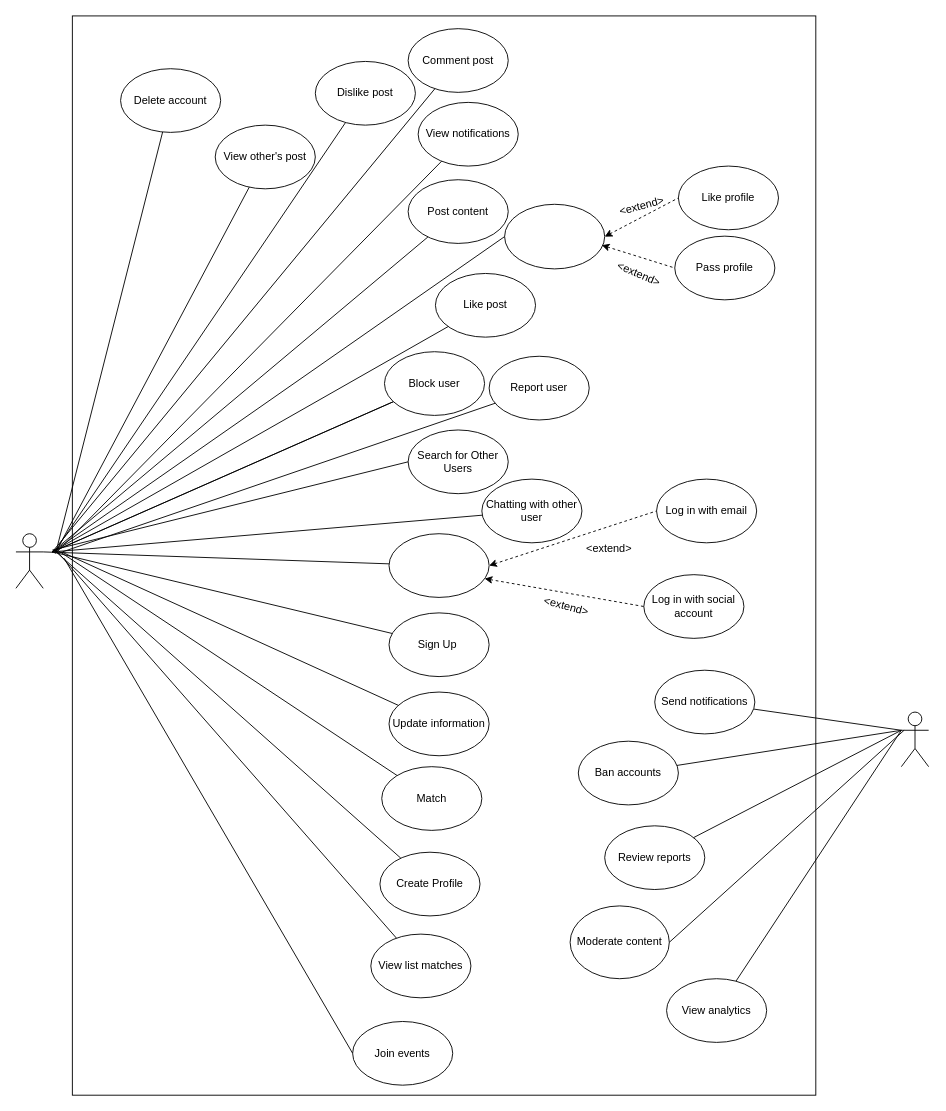
Image size: 946x1111. Some labels were removed from this diagram. Each missing label, with the centre of its shape:
"Admin" belongs at [914,739].
"Log In" belongs at [438,565].
"User" belongs at [29,560].
"View other profiles" belongs at [554,236].
